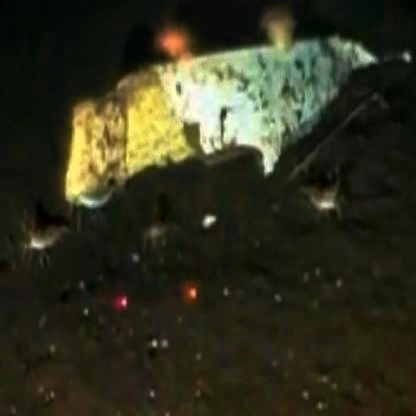misc: (81, 56, 370, 230)
